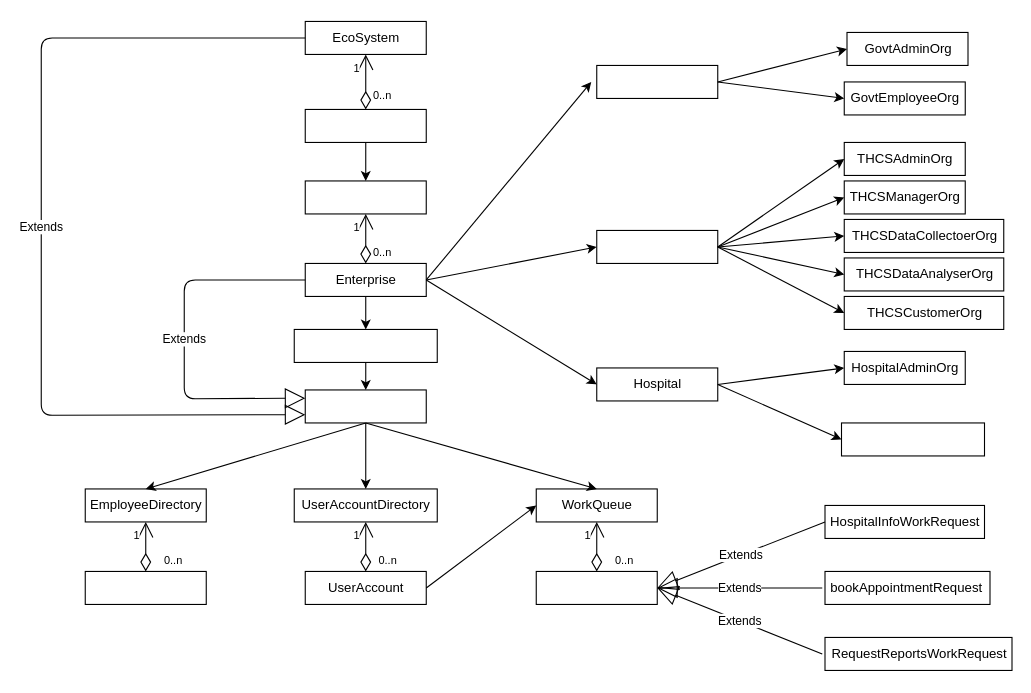
The diagram is 1031 pixels wide and 693 high, and some of its shapes have lost their labels. The box of each missing label's shape, as (x1, y1, x2, y2) in pixels:
Employee: (84, 570, 206, 604)
EnterpriseDirectory: (304, 180, 426, 214)
Government: (596, 64, 718, 98)
HospitalEmployeeOrg: (840, 422, 985, 456)
Network: (304, 108, 426, 142)
Organization: (304, 389, 426, 423)
OrganizationDirectory: (293, 328, 437, 362)
THCS: (596, 229, 718, 263)
WorkRequest: (535, 570, 657, 604)
